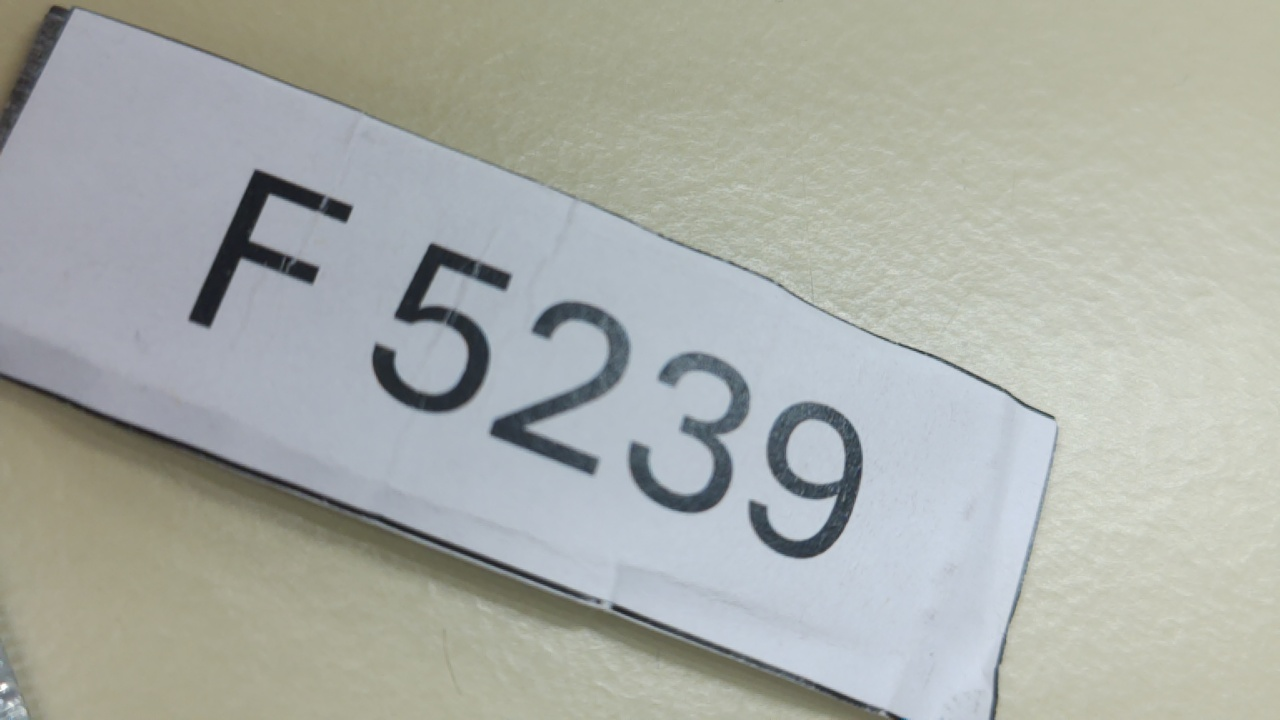license_plate: (2, 2, 1063, 720)
